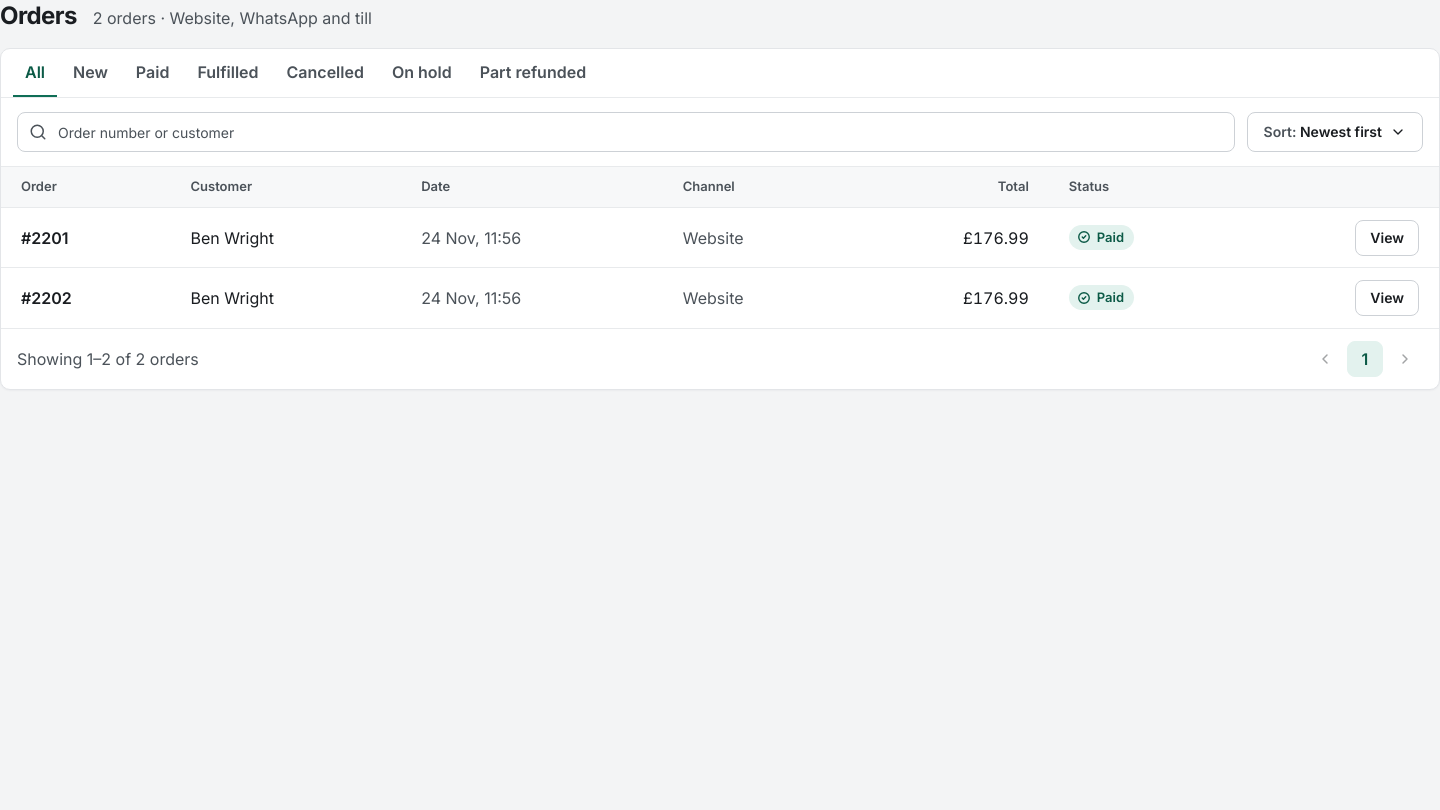
Order details › explains that till orders have no delivery address
This screenshot has width=1440, height=810.
What coordinates should you click on to do the following:
click the button with aria-label "View order #2201"
I would click on:
 (1387, 238)
Its box is [1355,220,1419,256].
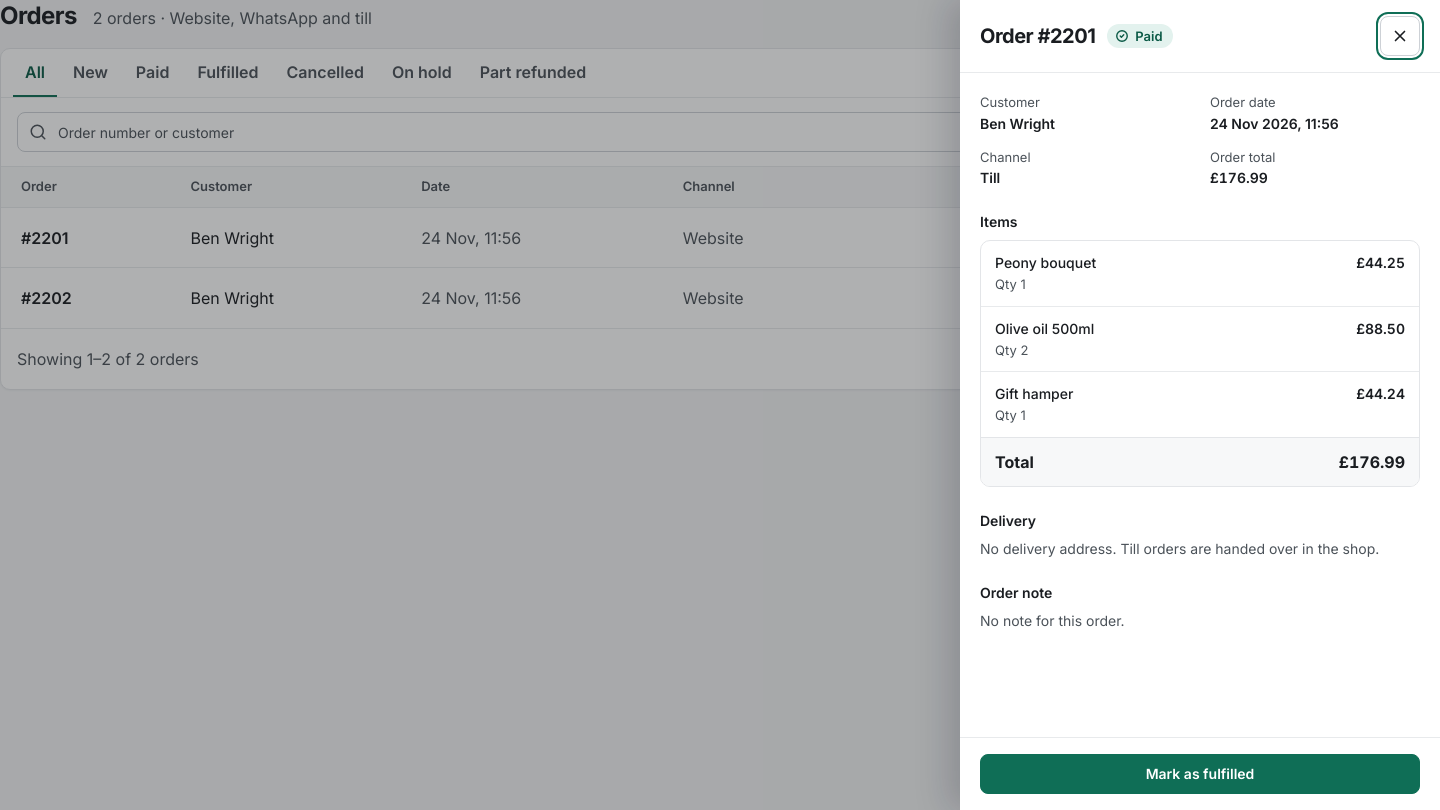
Now the text "Till orders are handed over in the shop" is shown, box [980,540,1379,557]
Now the text "No note for this order." is shown, box [980,612,1125,629]
